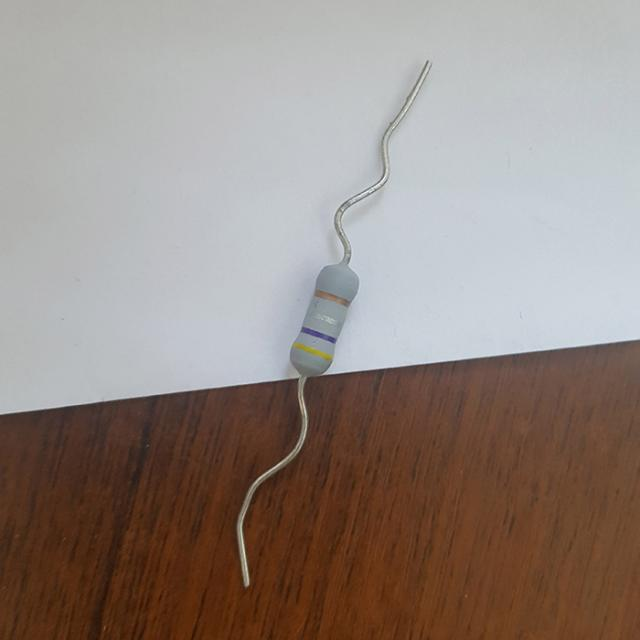Resistor Carbon-Film: (285, 260, 366, 385)
